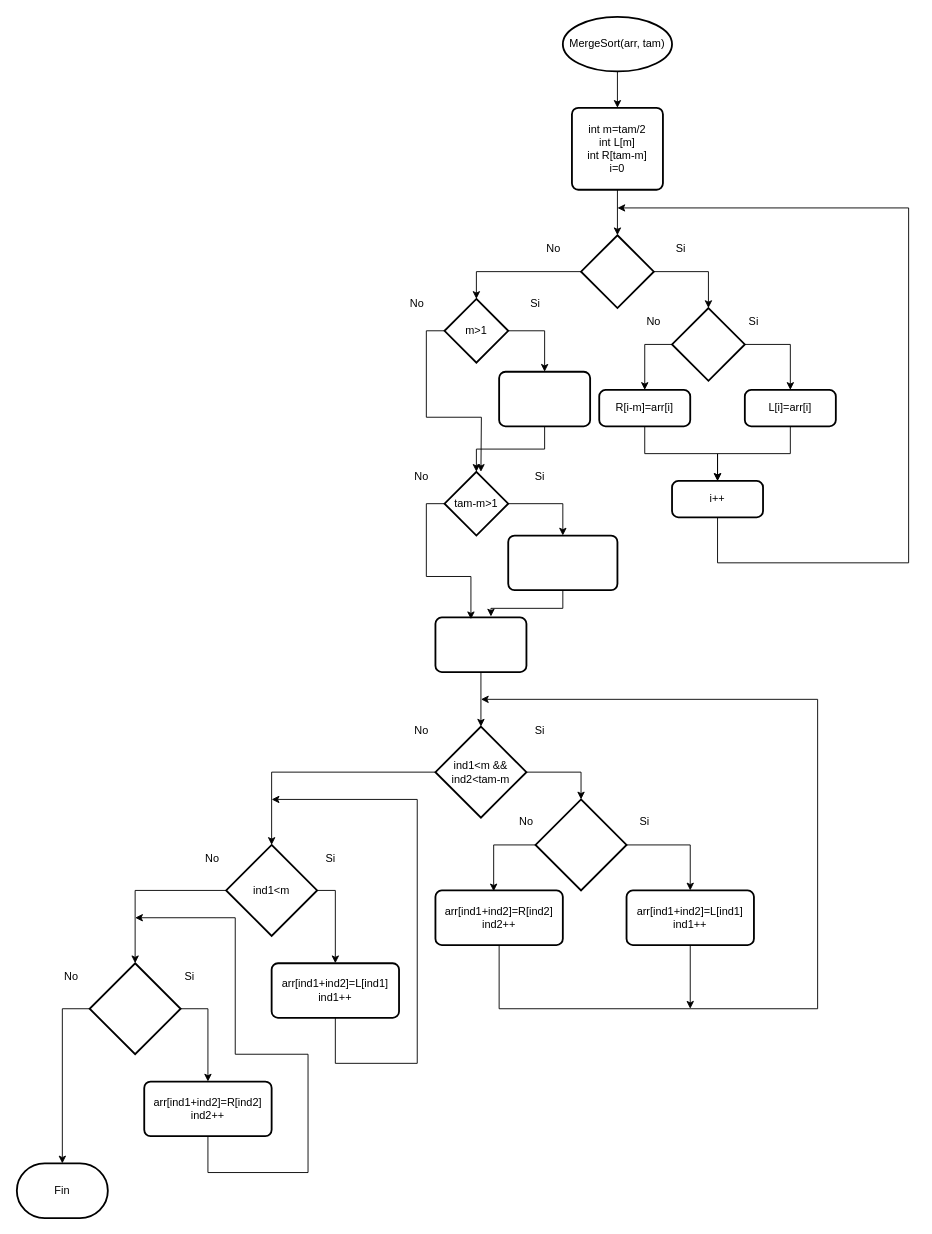
The diagram is 932 pixels wide and 1234 high, and some of its shapes have lost their labels. Each missing label, with the box of its shape:
i<m: (671, 307, 745, 381)
i<tam: (580, 234, 654, 308)
ind1=0 ind2=0: (434, 616, 527, 672)
ind2<tam-m: (88, 962, 181, 1055)
L[ind1]<R[ind2]: (534, 798, 627, 891)
MergeSort(L, m): (498, 370, 591, 427)
MergeSort(R,tam-m): (507, 534, 618, 591)
